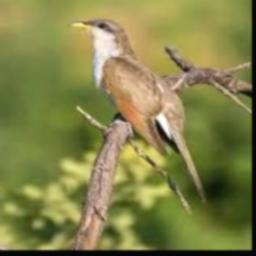Cuckoo: (69, 19, 206, 202)
